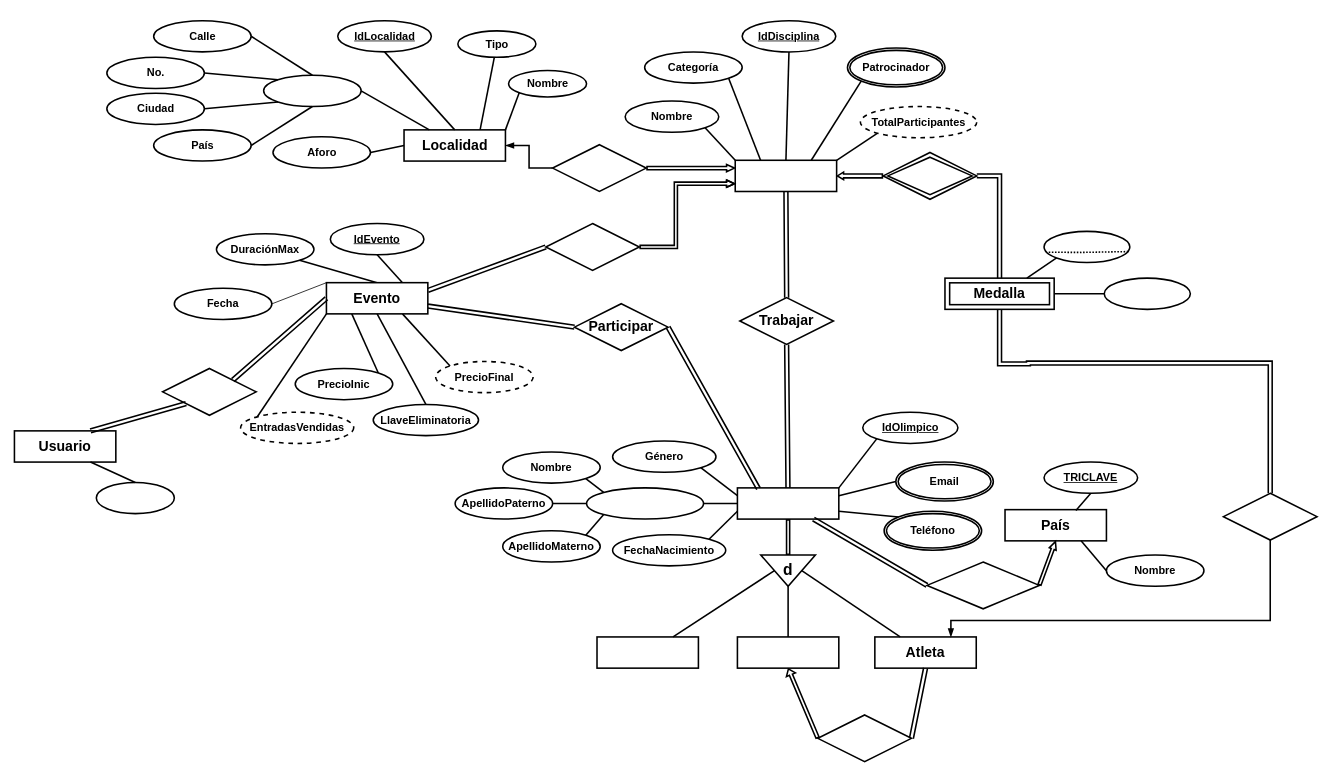
This 1331x776 diagram has some shape labels left out. The shapes that lost their labels are listed below. From the top down, each one's box as (x1, y1, x2, y2) in pixels, then its label:
(262, 74, 362, 107): Dirección
(551, 144, 647, 192): Llevar
(734, 159, 837, 192): Disciplina
(882, 151, 977, 200): Tener
(545, 222, 640, 271): Desarrollar
(1043, 230, 1130, 263): IdMedalla
(1103, 277, 1191, 310): Lugar
(161, 367, 257, 416): Visitar
(95, 481, 175, 514): IdUsuario
(585, 487, 704, 519): NombreCompleto
(736, 487, 839, 519): Olímpico
(1222, 492, 1317, 540): Ganar
(926, 561, 1040, 609): Representar
(596, 636, 699, 669): Juez
(736, 636, 839, 669): Entrenador
(817, 714, 912, 762): Entrenar
